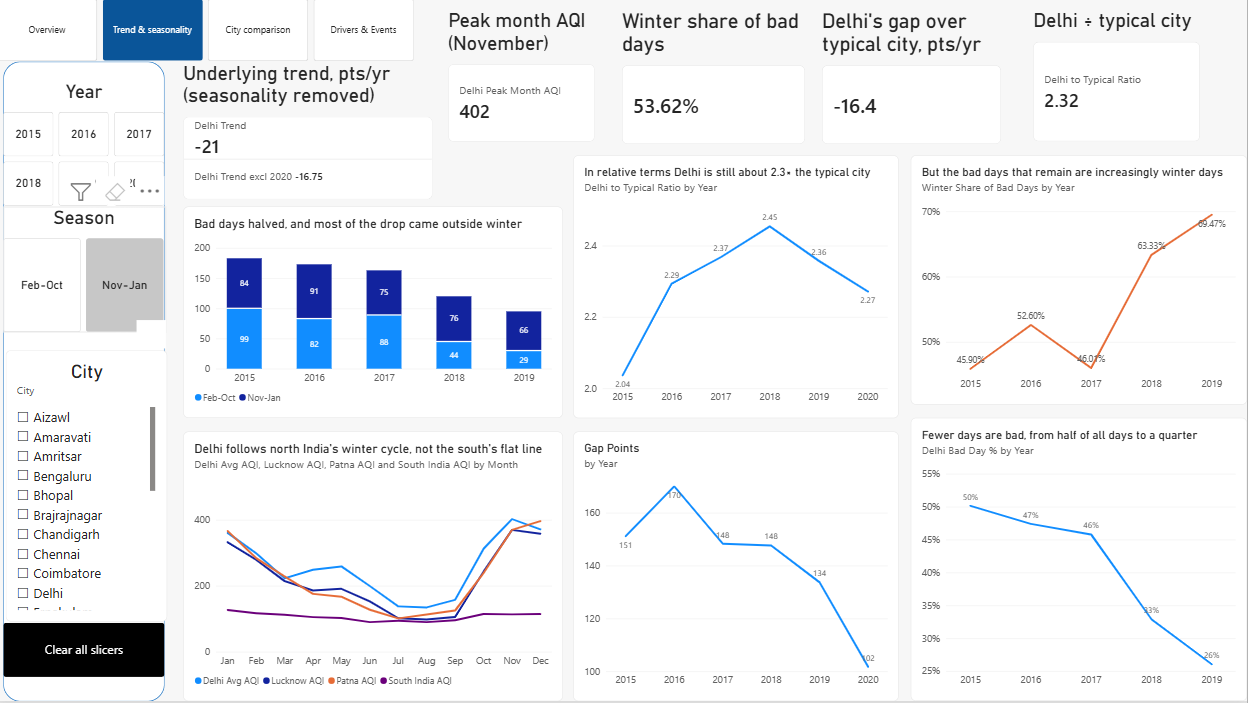

The page's visual inventory and layout, read from the dashboard file:
{"tool":"powerbi","page":{"name":"Trend & seasonality","canvas":[1920,1080],"ordinal":1},"visuals":[{"type":"shape","box":[10.4,95.8,247.9,983.3],"z":0},{"type":"advancedSlicerVisual","fields":{"Values":["Date.Year"]},"box":[10.4,125,247.9,193.8],"z":1000},{"type":"advancedSlicerVisual","title":"Season","fields":{"Values":["Date.Season"]},"box":[10.4,318.8,247.9,193.8],"z":2000},{"type":"listSlicer","title":"City","fields":{"Values":["city_day.City"]},"box":[12.5,539.6,247.9,416.7],"z":3000},{"type":"actionButton","box":[10.4,958.3,247.9,83.3],"z":15000},{"type":"lineChart","title":"Delhi follows north India''s winter cycle, not the south''s flat line","fields":{"Category":["Date.Month"],"Y":["New_Measures.Delhi Avg AQI","New_Measures.Lucknow AQI","New_Measures.Patna AQI","New_Measures.South India AQI"]},"box":[285.4,664.6,583.3,414.6],"z":15001},{"type":"lineChart","fields":{"Category":["Date.Year"],"Y":["New_Measures.Gap Points"]},"box":[885.4,664.6,500,414.6],"z":15002},{"type":"lineChart","title":"In relative terms Delhi is still about 2.3× the typical city","fields":{"Category":["Date.Year"],"Y":["New_Measures.Delhi to Typical Ratio"]},"box":[885.4,239.6,500,404.2],"z":15003},{"type":"lineChart","title":"Fewer days are bad, from half of all days to a quarter","fields":{"Category":["Date.Year"],"Y":["New_Measures.Delhi Bad Day %"]},"box":[1404.2,643.8,516.7,435.4],"z":15004},{"type":"lineChart","title":"But the bad days that remain are increasingly winter days","fields":{"Category":["Date.Year"],"Y":["New_Measures.Winter Share of Bad Days"]},"box":[1404.2,239.6,516.7,383.3],"z":15005},{"type":"cardVisual","title":"Peak month AQI (November)","fields":{"Data":["New_Measures.Delhi Peak Month AQI"]},"box":[693.8,14.6,225,204.2],"z":15006},{"type":"cardVisual","title":"Winter share of bad days","fields":{"Data":["New_Measures.Winter Share of Bad Days"]},"box":[960.4,14.6,281.2,208.3],"z":15007},{"type":"cardVisual","title":"Delhi ÷ typical city","fields":{"Data":["New_Measures.Delhi to Typical Ratio"]},"box":[1591.7,14.6,256.2,204.2],"z":15008},{"type":"cardVisual","title":"Underlying trend, pts/yr (seasonality removed)","fields":{"Data":["New_Measures.Delhi Trend"]},"box":[285.4,95.8,383.3,212.5],"z":15009},{"type":"cardVisual","title":"Delhi''s gap over typical city, pts/yr","fields":{"Data":["New_Measures.Gap Trend"]},"box":[1266.7,14.6,275,208.3],"z":15010},{"type":"pageNavigator","box":[0,0,641.7,95.8],"z":15011},{"type":"columnChart","title":"Bad days halved, and most of the drop came outside winter","fields":{"Category":["Date.Year"],"Series":["Date.Season"],"Y":["New_Measures.Delhi Bad Days"]},"box":[285.4,318.8,583.3,325],"z":15012}]}

Visuals, with their boxes on the page's 1920x1080 design canvas (x1, y1, x2, y2). These are canvas units, not pixel positions in the 1248x703 screenshot, which may show the page scaled, cropped or inside an application window:
shape: 10,96,258,1079
advancedSlicerVisual - Date.Year: 10,125,258,319
"Season" advancedSlicerVisual: 10,319,258,513
"City" listSlicer: 12,540,260,956
actionButton: 10,958,258,1042
"Delhi follows north India''s winter cycle, not the south''s flat line" lineChart: 285,665,869,1079
lineChart - Date.Year x New_Measures.Gap Points: 885,665,1385,1079
"In relative terms Delhi is still about 2.3× the typical city" lineChart: 885,240,1385,644
"Fewer days are bad, from half of all days to a quarter" lineChart: 1404,644,1921,1079
"But the bad days that remain are increasingly winter days" lineChart: 1404,240,1921,623
"Peak month AQI (November)" cardVisual: 694,15,919,219
"Winter share of bad days" cardVisual: 960,15,1242,223
"Delhi ÷ typical city" cardVisual: 1592,15,1848,219
"Underlying trend, pts/yr (seasonality removed)" cardVisual: 285,96,669,308
"Delhi''s gap over typical city, pts/yr" cardVisual: 1267,15,1542,223
pageNavigator: 0,0,642,96
"Bad days halved, and most of the drop came outside winter" columnChart: 285,319,869,644
